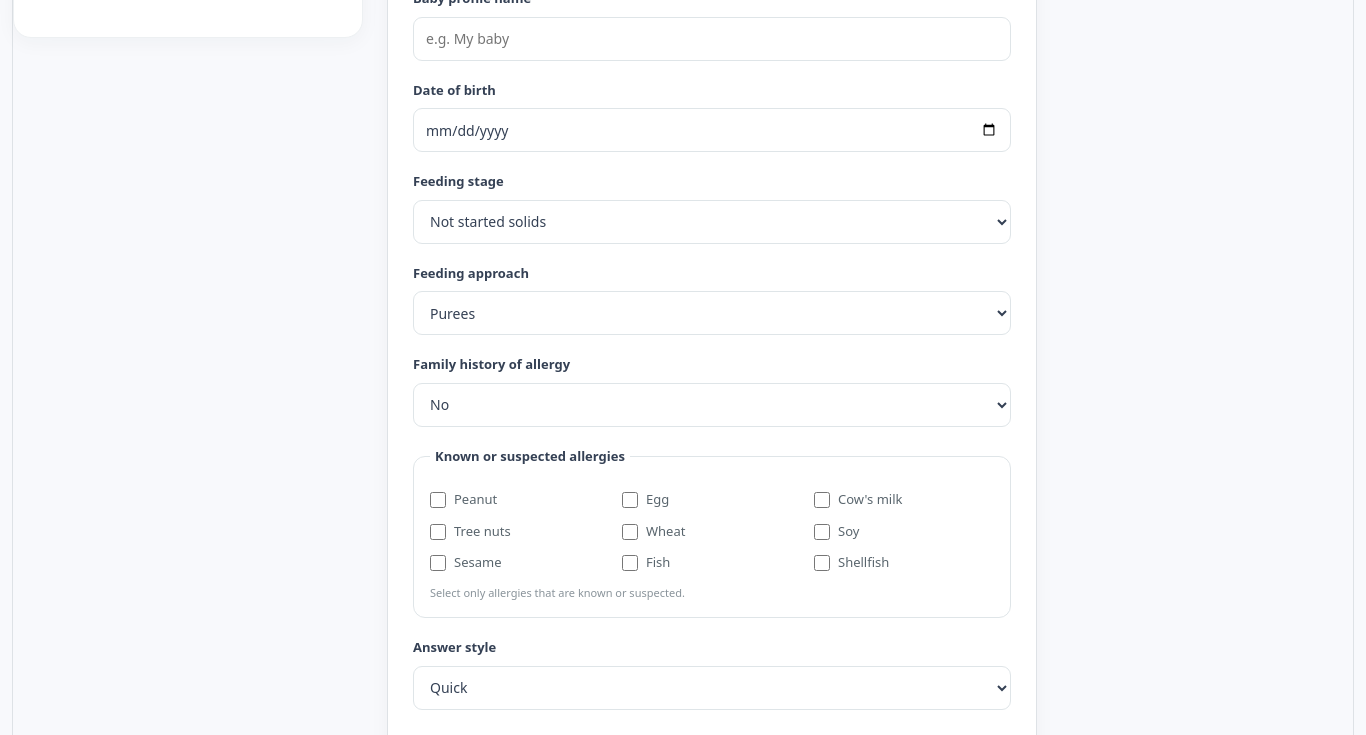
Profile Page › shows validation messages when required fields are missing
(page scrolled)
// Bypass browser validation to test the component's own validation.
Submit the form labelled "Baby profile name"
// Provide a name, but leave the date of birth empty.
Type "Baby Alex" into the field labelled "Baby profile name" at (712, 39), box x1=413 y1=17 x2=1011 y2=61
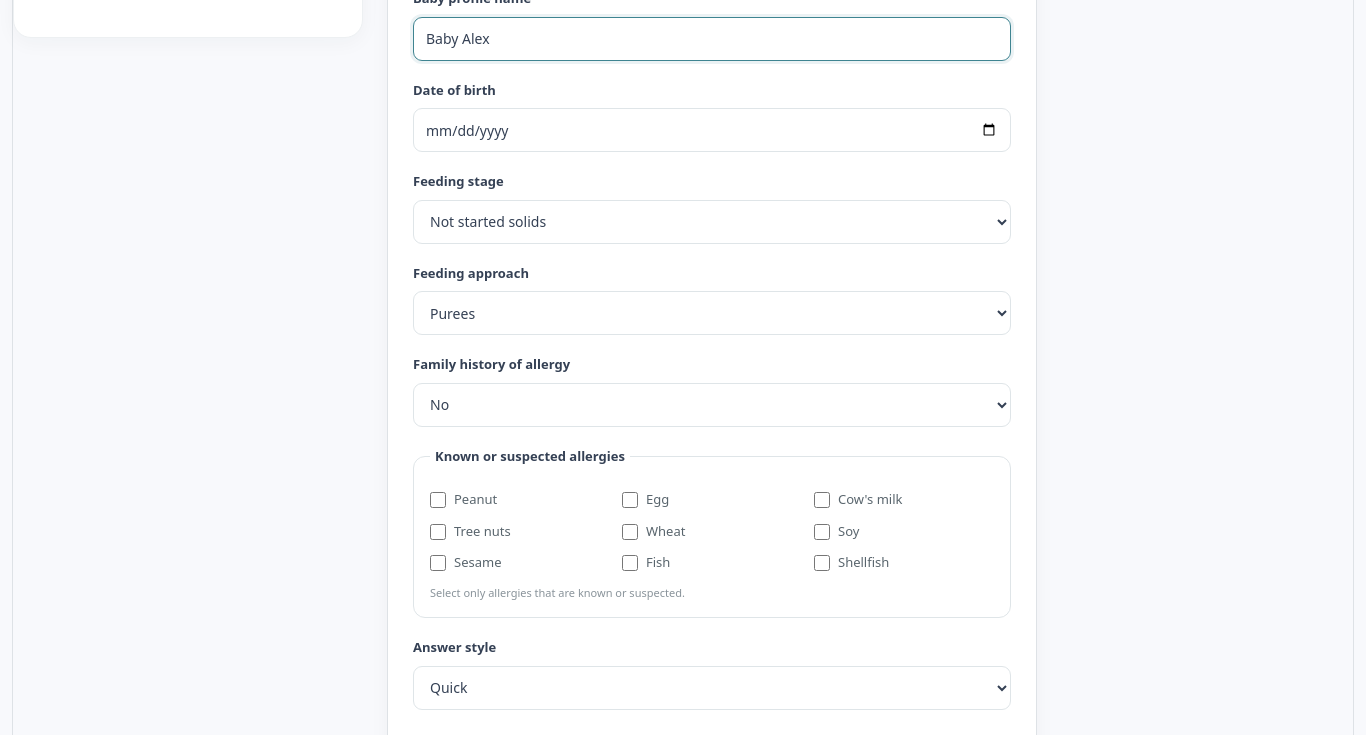
Submit the form labelled "Baby profile name"
(page scrolled)
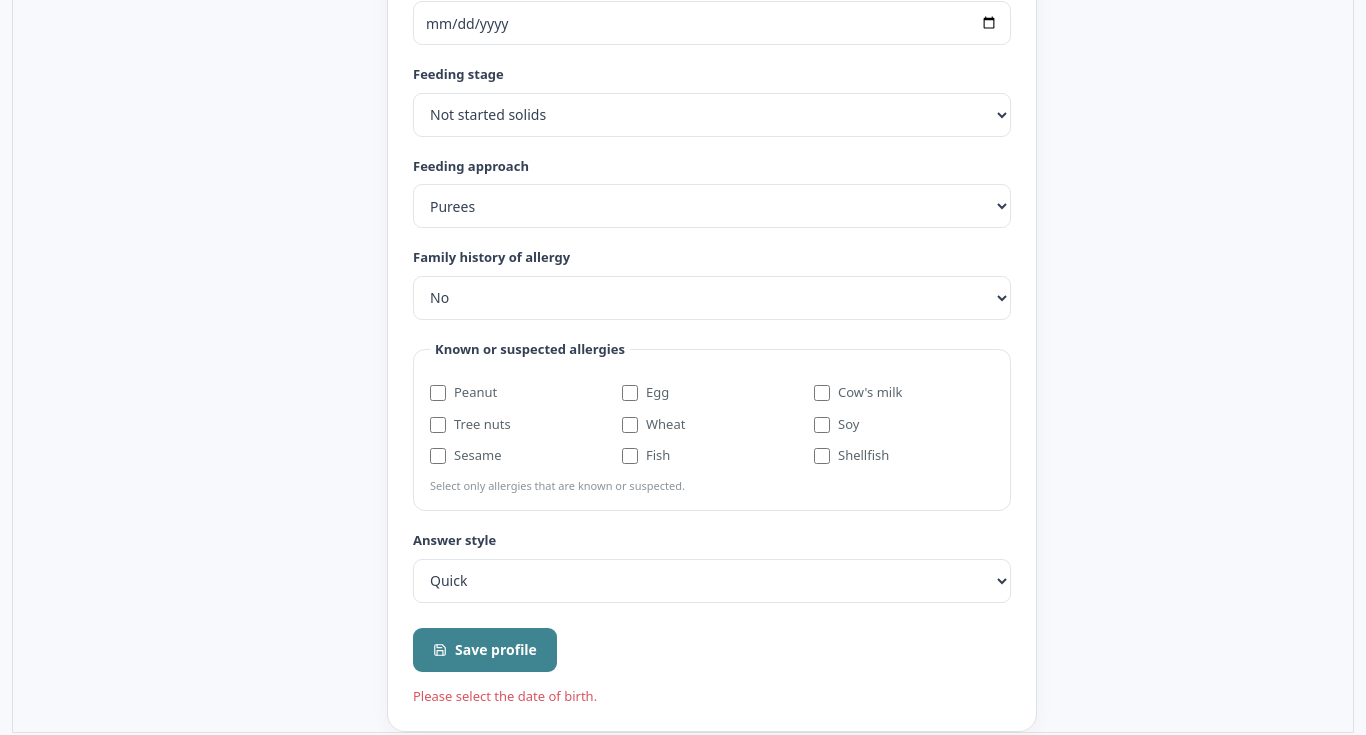
Expected: the text "Please select the date of birth." is shown, x1=413 y1=687 x2=597 y2=705
